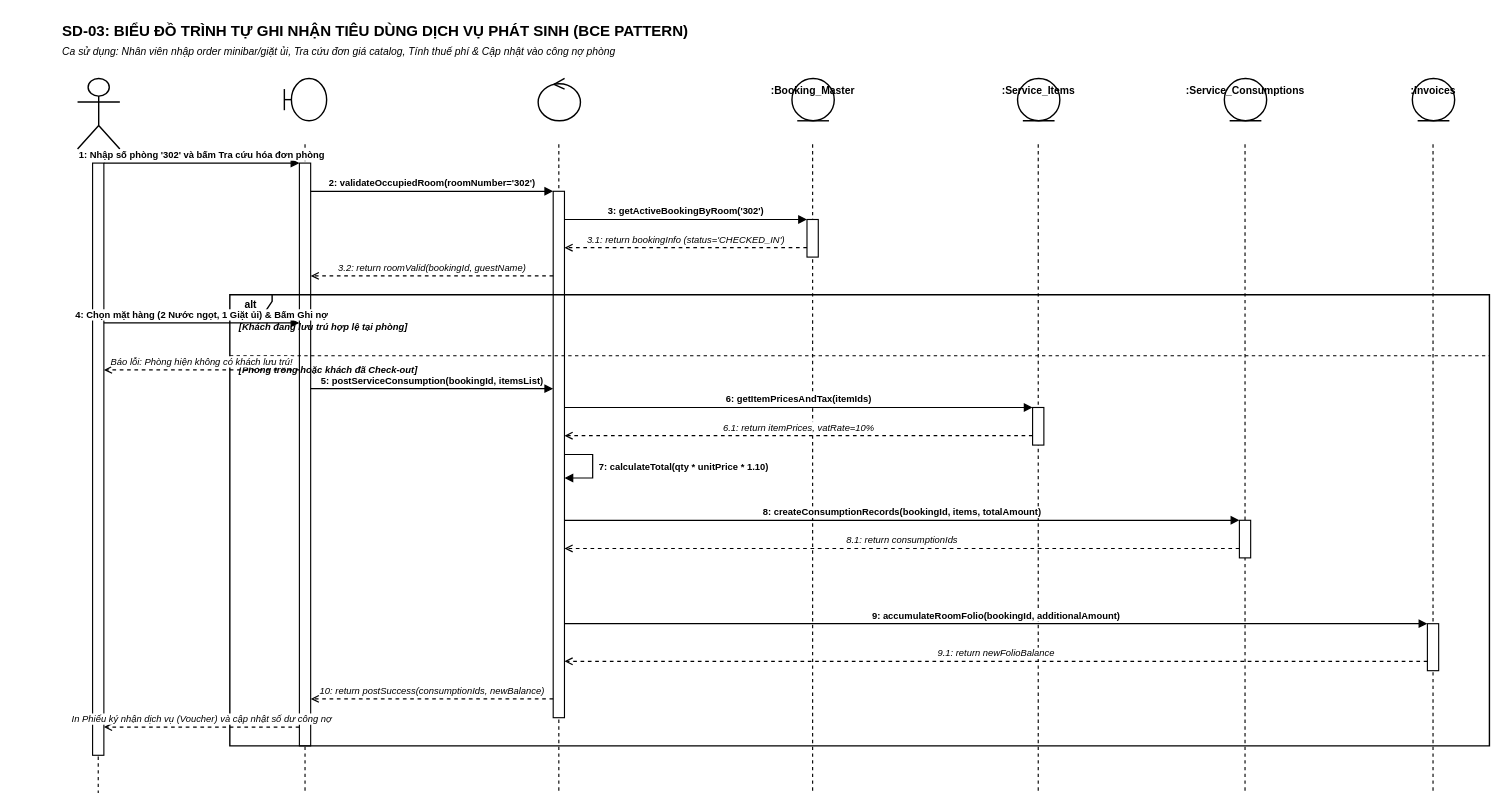
The diagram is 1506 pixels wide and 810 high, and some of its shapes have lost their labels. Here are the shapes that lost their labels. From the top down, the centre of each, then its label:
At [98,113]: "Nhân viên Lễ tân / Phục vụ (Staff)".
At [305,99]: ":ServiceOrderUI".
At [559,99]: ":FolioBillingService".
